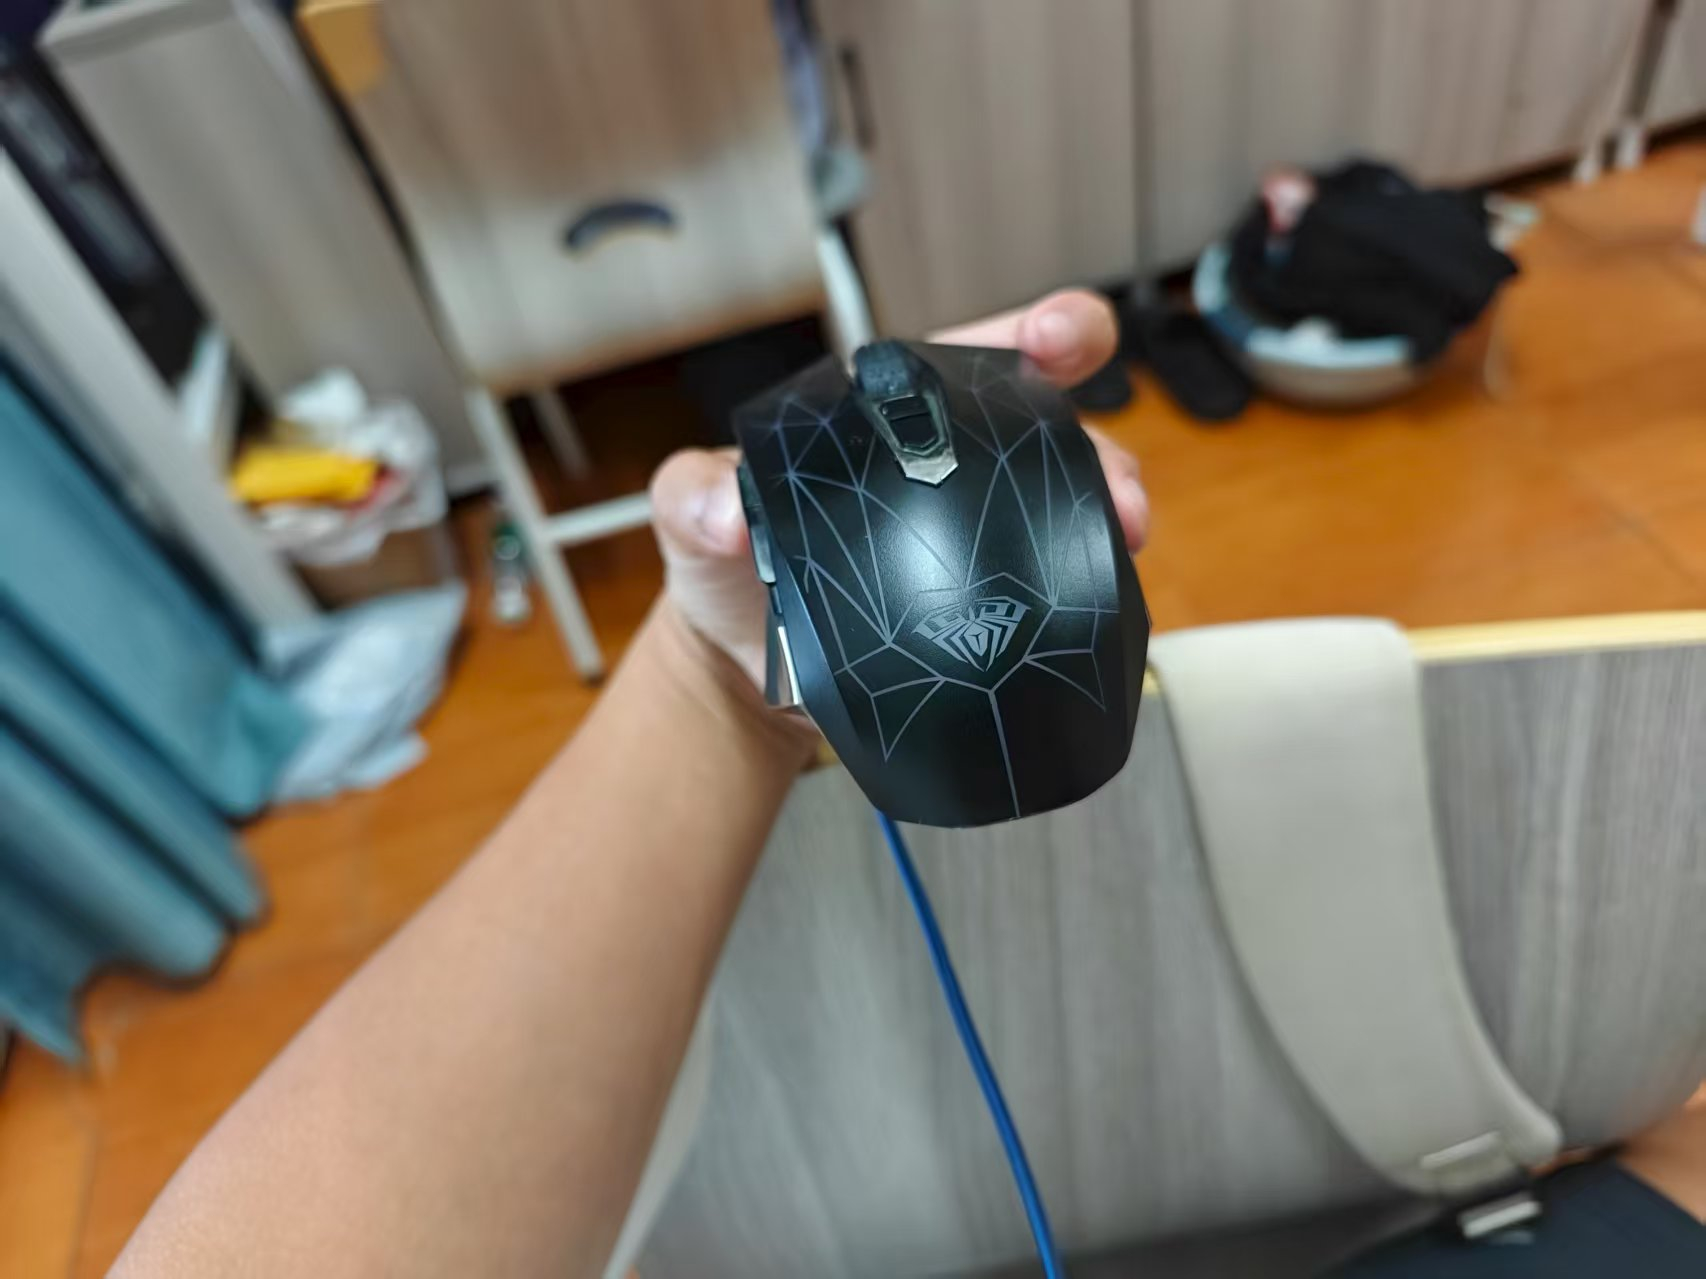mouse: (670, 290, 1212, 842)
